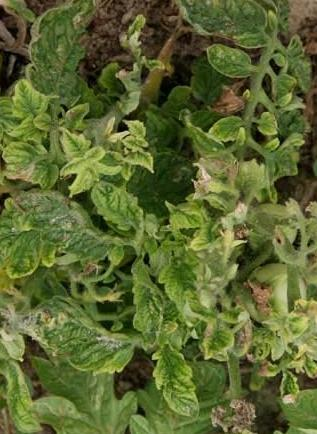Tomato leaf yellow virus: (42, 288, 138, 372), (26, 0, 97, 71), (0, 203, 66, 279), (153, 238, 211, 311), (88, 180, 150, 232), (158, 338, 198, 415), (200, 33, 262, 81), (8, 73, 56, 125), (165, 194, 219, 223), (205, 112, 251, 141), (257, 111, 286, 141), (62, 127, 88, 160)
